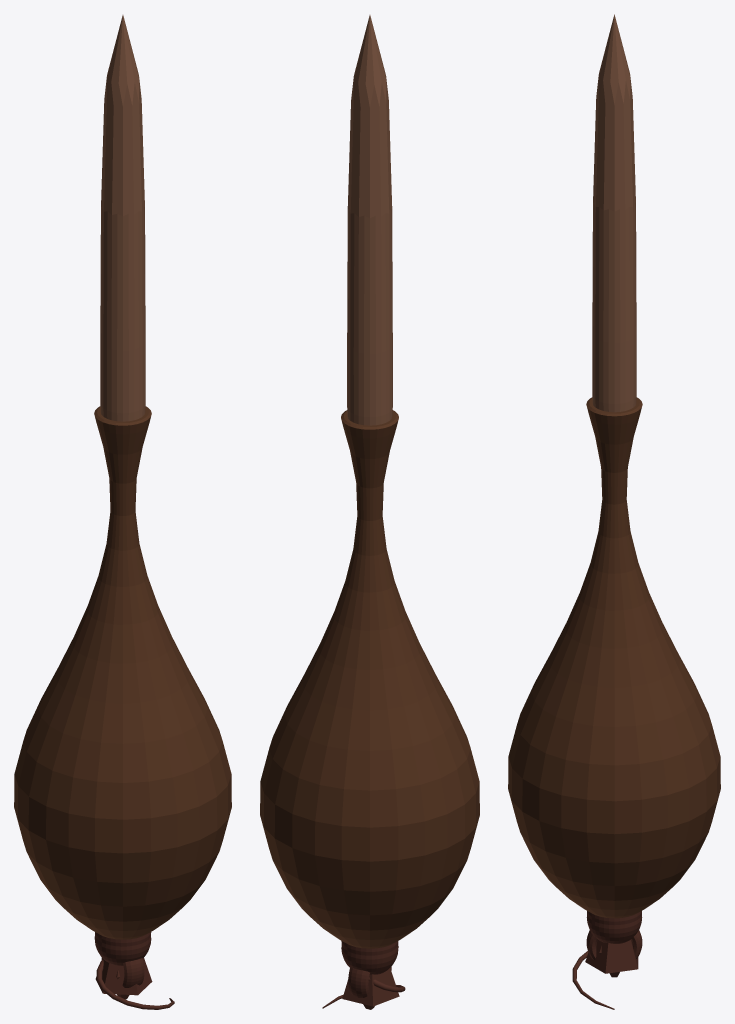
Rendered from Wand 903.glb.
The picture shows the model from 3 angles, left to right: view 1: azimuth 30°, elevation 25°; view 2: azimuth 150°, elevation 25°; view 3: azimuth 270°, elevation 25°; orthographic projection. The views are drawn at different scales.
Visible parts, largest first — view 1: GeneratedWand, Pommel_9, Pommel_4, Pommel_10, Pommel_2; view 2: GeneratedWand, Pommel_9, Pommel_4, Pommel_2; view 3: GeneratedWand, Pommel_9, Pommel_4.
Part boxes in pixels (left/top/right/bottom): GeneratedWand: left=14, top=15, right=231, bottom=946; Pommel_9: left=95, top=958, right=152, bottom=995; Pommel_4: left=94, top=935, right=151, bottom=965; Pommel_10: left=96, top=959, right=174, bottom=1009; Pommel_2: left=101, top=957, right=144, bottom=987; GeneratedWand: left=260, top=15, right=479, bottom=955; Pommel_9: left=342, top=968, right=399, bottom=1006; Pommel_4: left=341, top=944, right=398, bottom=974; Pommel_2: left=348, top=966, right=391, bottom=997; GeneratedWand: left=508, top=14, right=720, bottom=925; Pommel_9: left=585, top=939, right=638, bottom=973; Pommel_4: left=586, top=914, right=642, bottom=943.
Bounding box in the file's own units: 0.1026 × 0.5179 × 0.1026.
